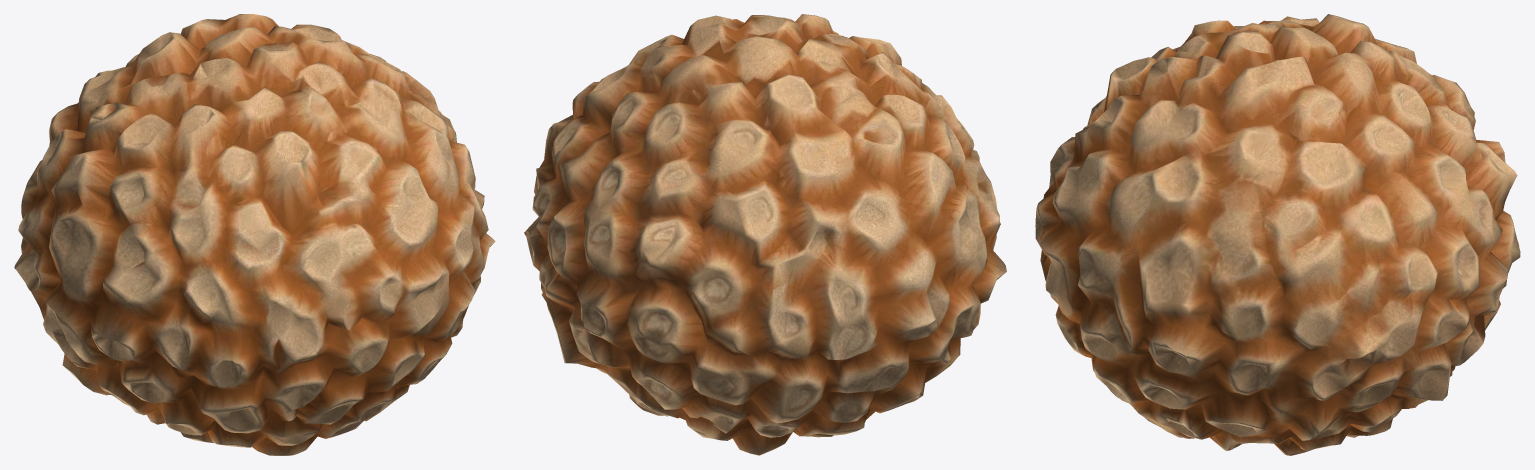
The model's file is BrainCoral.glb.
3 renders of one model, left to right at view 1: azimuth 30°, elevation 25°; view 2: azimuth 150°, elevation 25°; view 3: azimuth 270°, elevation 25°, orthographic. The views are drawn at different scales.
Bounding box in the file's own units: 0.9565 × 0.8677 × 0.9507.
Materials: 1 (1 with a texture image).
